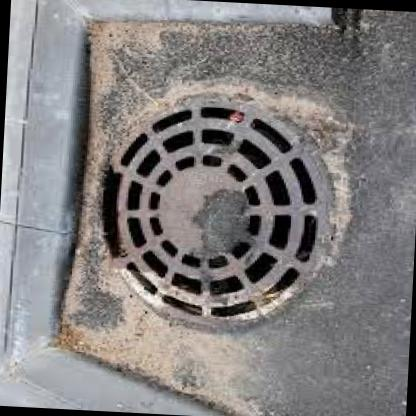manholes: (46, 61, 376, 346)
